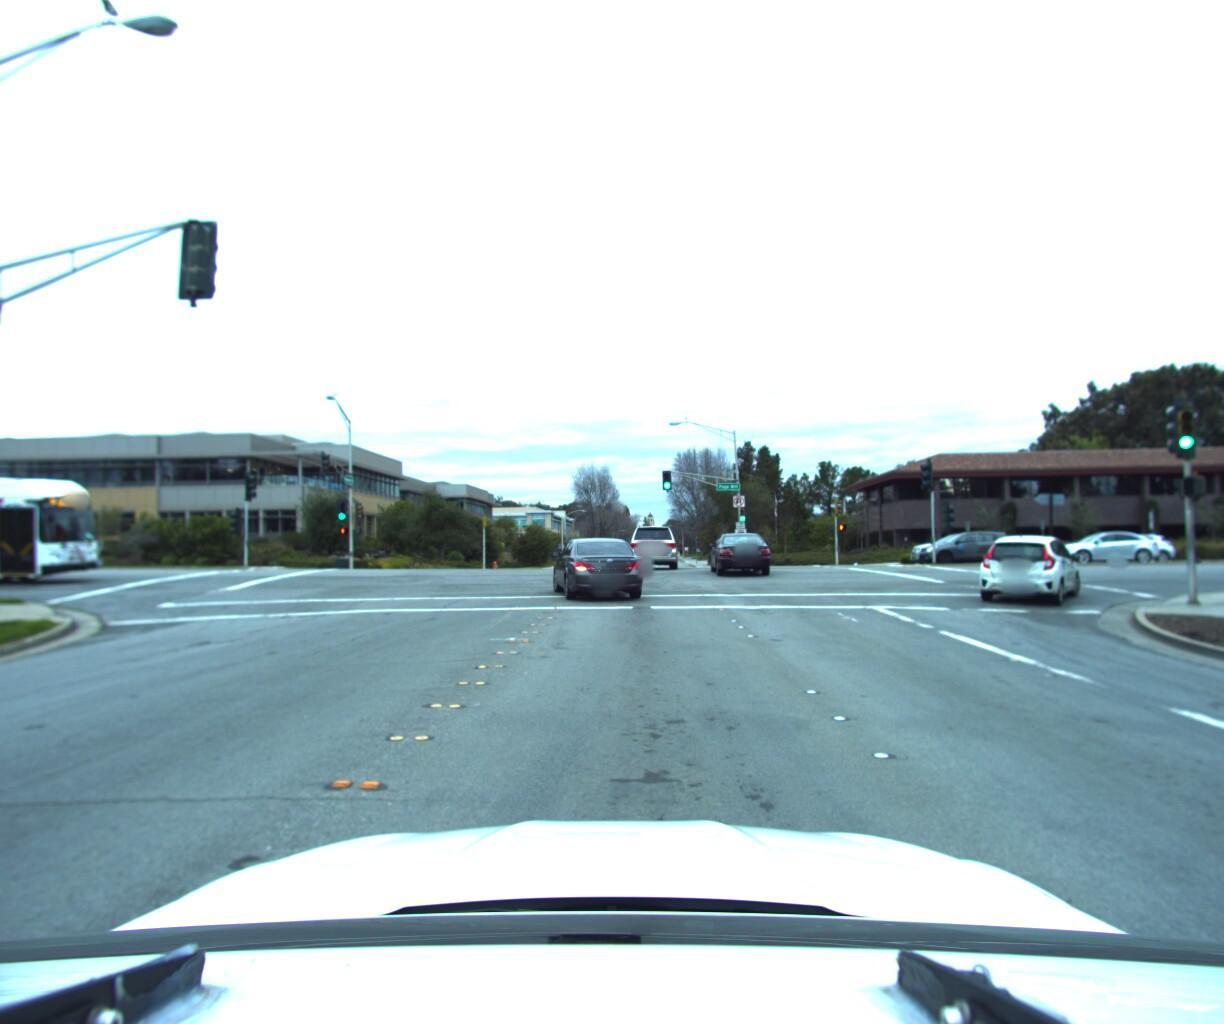car: (973, 526, 1070, 599), (552, 531, 647, 602), (1041, 521, 1161, 556), (909, 523, 1018, 560), (899, 523, 1005, 559), (1069, 524, 1178, 558), (703, 530, 773, 578), (625, 522, 680, 569)
